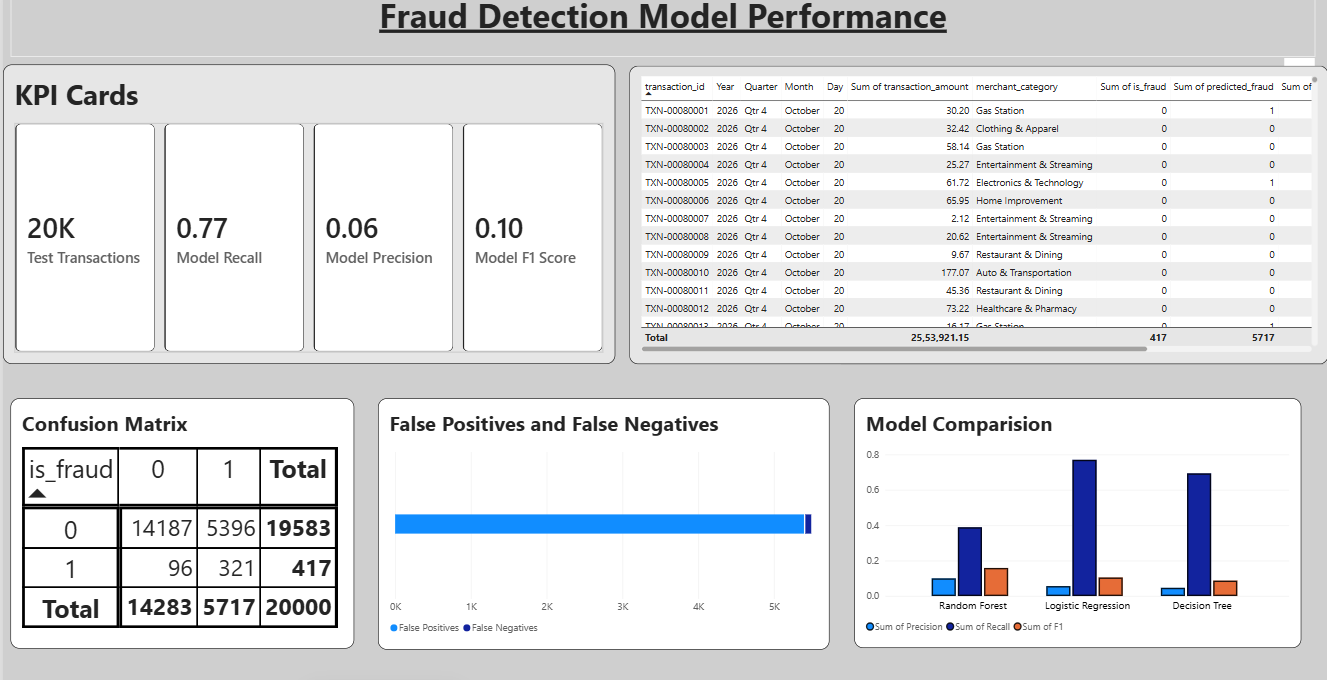

What the dashboard file says about the page in this screenshot:
{"tool":"powerbi","page":{"name":"Model Performance","canvas":[1920,1080],"ordinal":1},"visuals":[{"type":"textbox","box":[10.9,0,1889.3,94.1],"z":0},{"type":"pivotTable","title":"Confusion Matrix","fields":{"Columns":["transaction_predictions.predicted_fraud"],"Rows":["transaction_predictions.is_fraud"],"Values":["transaction_predictions.Test Transactions"]},"box":[11.1,587.6,497.5,362.3],"z":1},{"type":"cardVisual","title":"KPI Cards","fields":{"Data":["transaction_predictions.Test Transactions","transaction_predictions.Model Recall","transaction_predictions.Model Precision","transaction_predictions.Model F1 Score"]},"box":[0,105.7,886,433.8],"z":2},{"type":"barChart","fields":{"Y":["transaction_predictions.False Positives","transaction_predictions.False Negatives"]},"box":[543.1,587.6,653.3,363.7],"z":3},{"type":"tableEx","fields":{"Values":["transaction_predictions.transaction_id","transaction_predictions.transaction_datetime.Variation.Date Hierarchy.Year","transaction_predictions.transaction_datetime.Variation.Date Hierarchy.Quarter","transaction_predictions.transaction_datetime.Variation.Date Hierarchy.Month","transaction_predictions.transaction_datetime.Variation.Date Hierarchy.Day","Sum(transaction_predictions.transaction_amount)","transaction_predictions.merchant_category","Sum(transaction_predictions.is_fraud)","Sum(transaction_predictions.predicted_fraud)","Sum(transaction_predictions.predicted_fraud_probability)","transaction_predictions.Prediction Outcome"]},"box":[906.4,107.5,1013.9,431.9],"z":4},{"type":"clusteredColumnChart","title":"Model Comparision","fields":{"Category":["model_comparison.Model"],"Y":["Sum(model_comparison.Precision)","Sum(model_comparison.Recall)","Sum(model_comparison.F1)"]},"box":[1232.7,587.6,646.9,361.5],"z":5}]}

Visuals, with their boxes on the page's 1920x1080 design canvas (x1, y1, x2, y2). These are canvas units, not pixel positions in the 1327x680 screenshot, which may show the page scaled, cropped or inside an application window:
textbox: BBox(11, 0, 1900, 94)
"Confusion Matrix" pivotTable: BBox(11, 588, 509, 950)
"KPI Cards" cardVisual: BBox(0, 106, 886, 540)
barChart - transaction_predictions.False Positives x transaction_predictions.False Negatives: BBox(543, 588, 1196, 951)
tableEx - transaction_predictions.transaction_id x transaction_predictions.transaction_datetime.Variation.Date Hierarchy.Year: BBox(906, 108, 1920, 539)
"Model Comparision" clusteredColumnChart: BBox(1233, 588, 1880, 949)
